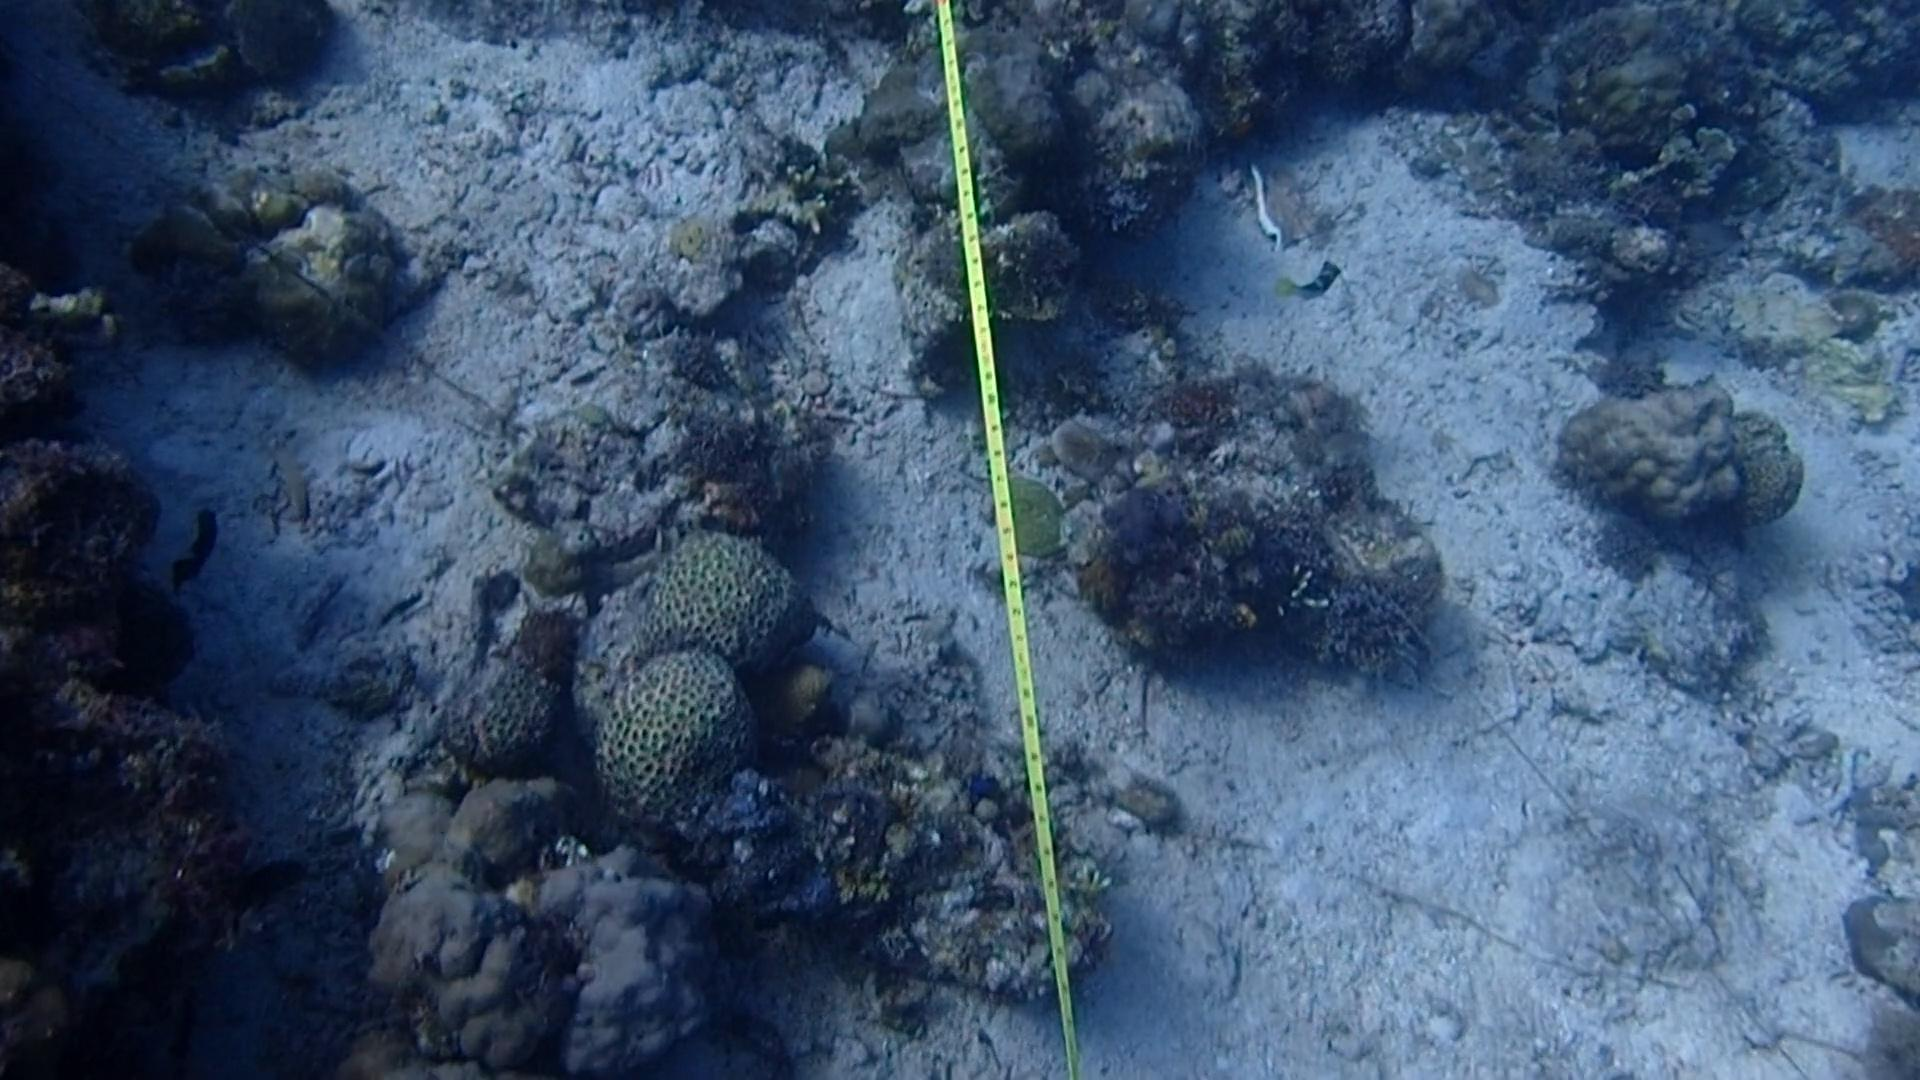Striped Fish: (1280, 248, 1349, 318)
